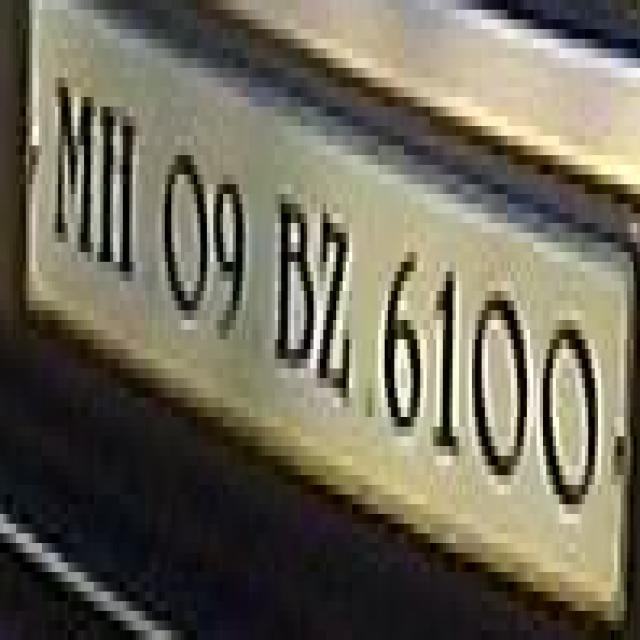license_plate: (16, 29, 640, 553)
